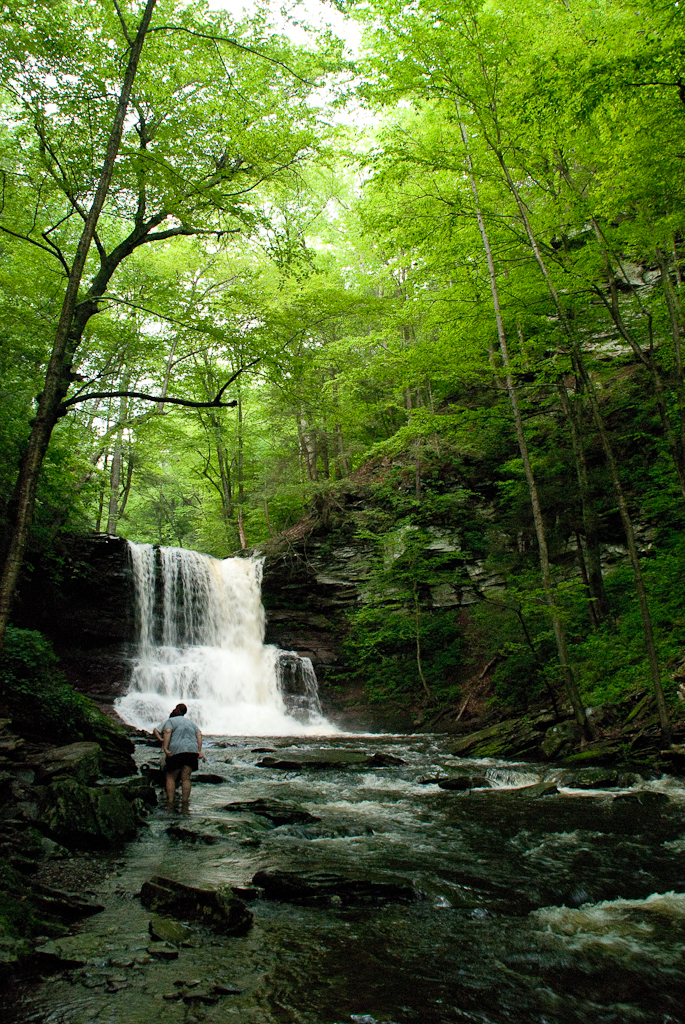Person: (150, 707, 176, 787)
